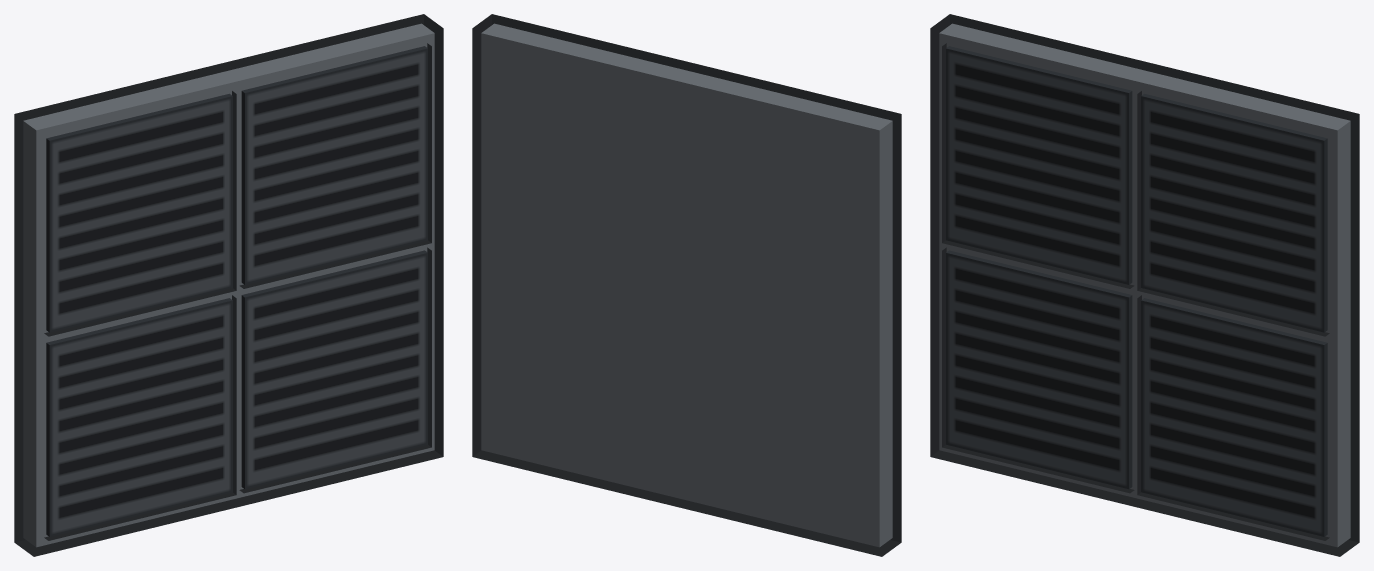
The model's file is REF_VentHatch.glb.
3 renders of one model, left to right at view 1: azimuth 30°, elevation 25°; view 2: azimuth 150°, elevation 25°; view 3: azimuth 330°, elevation 25°, orthographic.
Visible parts, largest first — view 1: REF_VentHatch, REF_VentHatch_Outline; view 2: REF_VentHatch, REF_VentHatch_Outline; view 3: REF_VentHatch, REF_VentHatch_Outline.
Part boxes in pixels (x1,y1,x2,y2): REF_VentHatch: [23, 23, 434, 547]; REF_VentHatch_Outline: [14, 14, 443, 556]; REF_VentHatch: [481, 23, 892, 547]; REF_VentHatch_Outline: [472, 14, 901, 556]; REF_VentHatch: [939, 23, 1350, 547]; REF_VentHatch_Outline: [930, 14, 1359, 556].
Bounding box in the file's own units: 1.44 × 1.44 × 0.128.
Materials: 2 (1 with a texture image).
